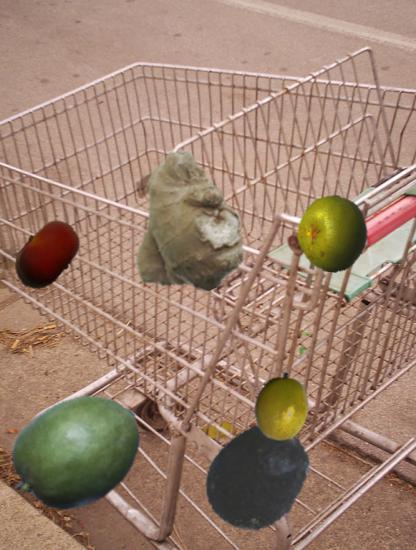Avocado: (204, 423, 313, 532)
Ginger: (108, 153, 252, 297)
Mango: (8, 384, 146, 522)
Maracuja: (247, 373, 317, 443)
Nectarine: (9, 217, 85, 293)
Pomelo: (294, 195, 371, 272)
